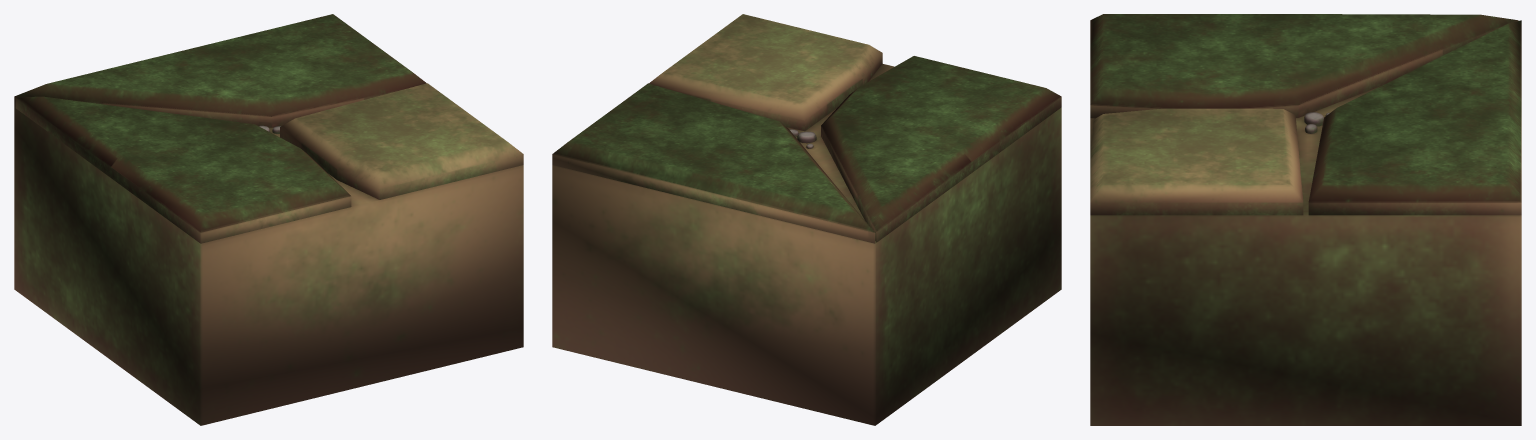
File: Ground02.fbx
3 renders of one model, left to right at view 1: azimuth 30°, elevation 25°; view 2: azimuth 150°, elevation 25°; view 3: azimuth 270°, elevation 25°, orthographic. The views are drawn at different scales.
Parts seen in each view (by area): view 1: Cube.120; view 2: Cube.120; view 3: Cube.120.
Part boxes in pixels (x1,y1,x2,y2): Cube.120: (14,14,523,425); Cube.120: (552,14,1061,425); Cube.120: (1090,14,1521,425).
Bounding box in the file's own units: 4 × 2.41 × 4.
